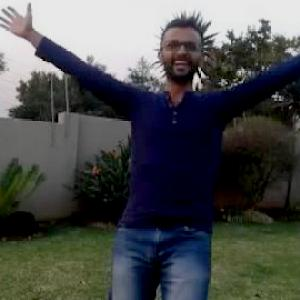takeoff: (19, 17, 299, 299)
